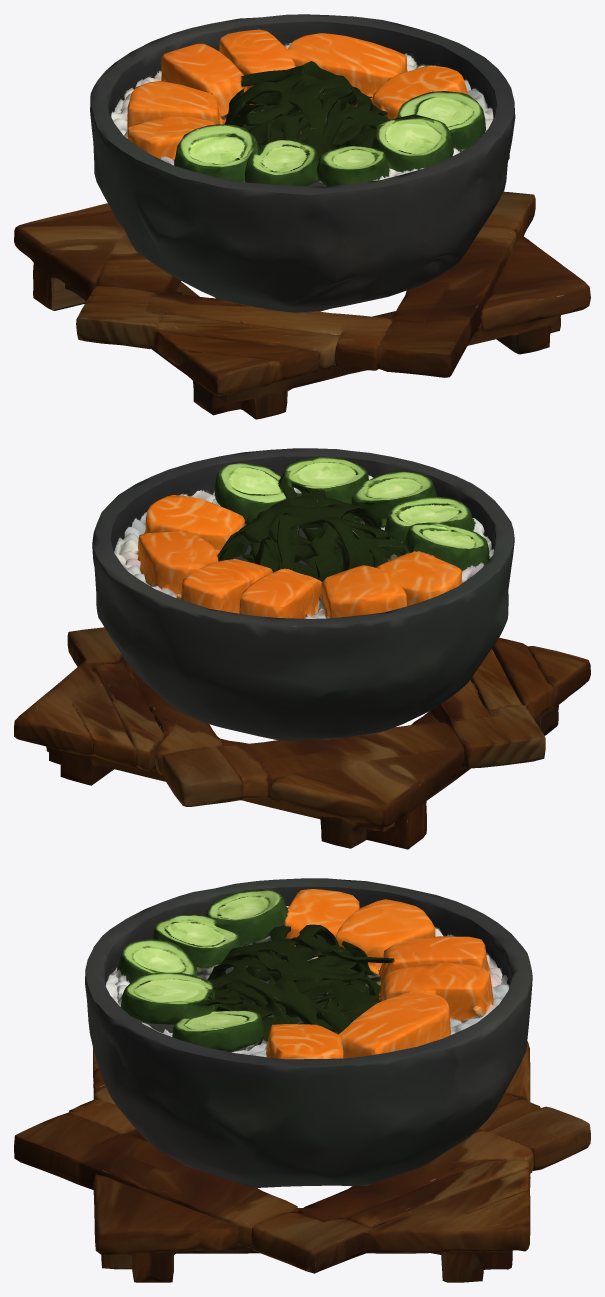
The model's file is salmon_tsuke_don.glb.
3 views of the same model, one above another, from view 1: azimuth 30°, elevation 25°; view 2: azimuth 150°, elevation 25°; view 3: azimuth 270°, elevation 25° (orthographic). The views are drawn at different scales.
Visible parts, largest first — view 1: world; view 2: world; view 3: world.
Part boxes in pixels (box(x1,y1,x2,y2)): world: box(14, 14, 590, 419); world: box(14, 448, 590, 849); world: box(14, 878, 590, 1282).
Size of the model in its own units: 0.9939 by 0.4771 by 1.
Materials: 1 (1 with a texture image).
